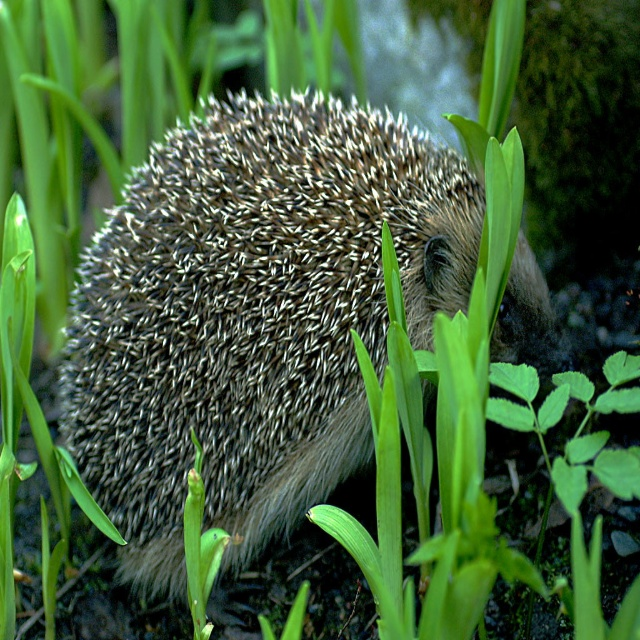Hedgehog: (57, 84, 574, 612)
